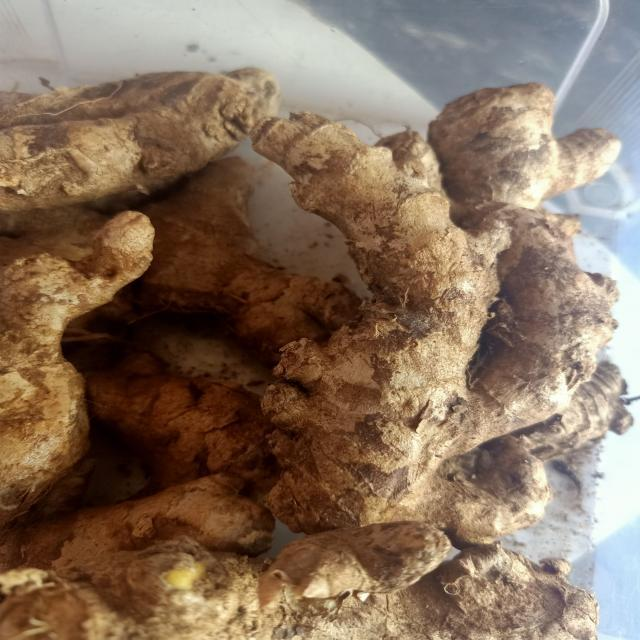Ginger: (251, 83, 630, 547), (0, 211, 153, 524), (137, 157, 361, 363), (0, 67, 279, 212), (85, 353, 277, 500)
